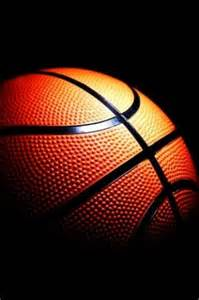basketball: (1, 64, 199, 249)
